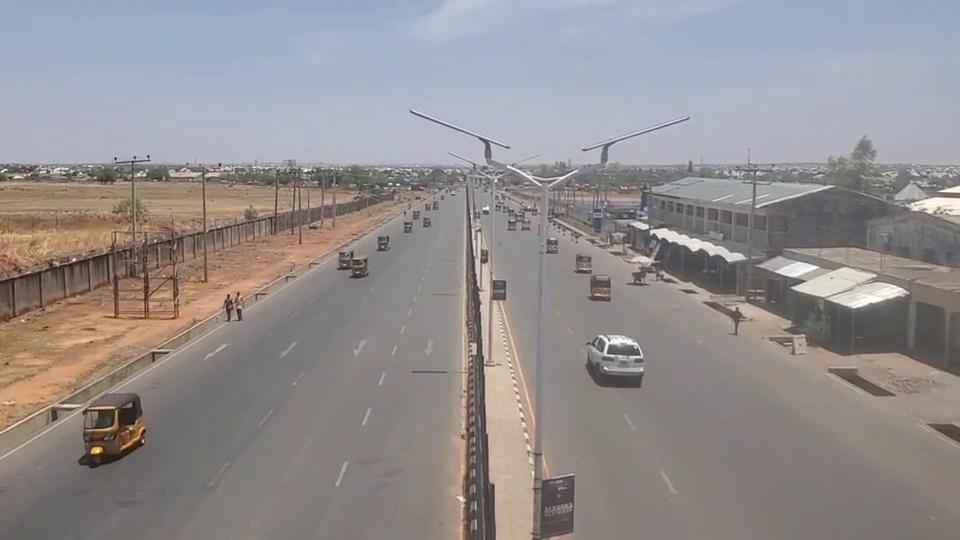car: (586, 333, 644, 381)
keke: (81, 391, 146, 463), (350, 257, 368, 278), (338, 250, 354, 269), (377, 235, 390, 251)
